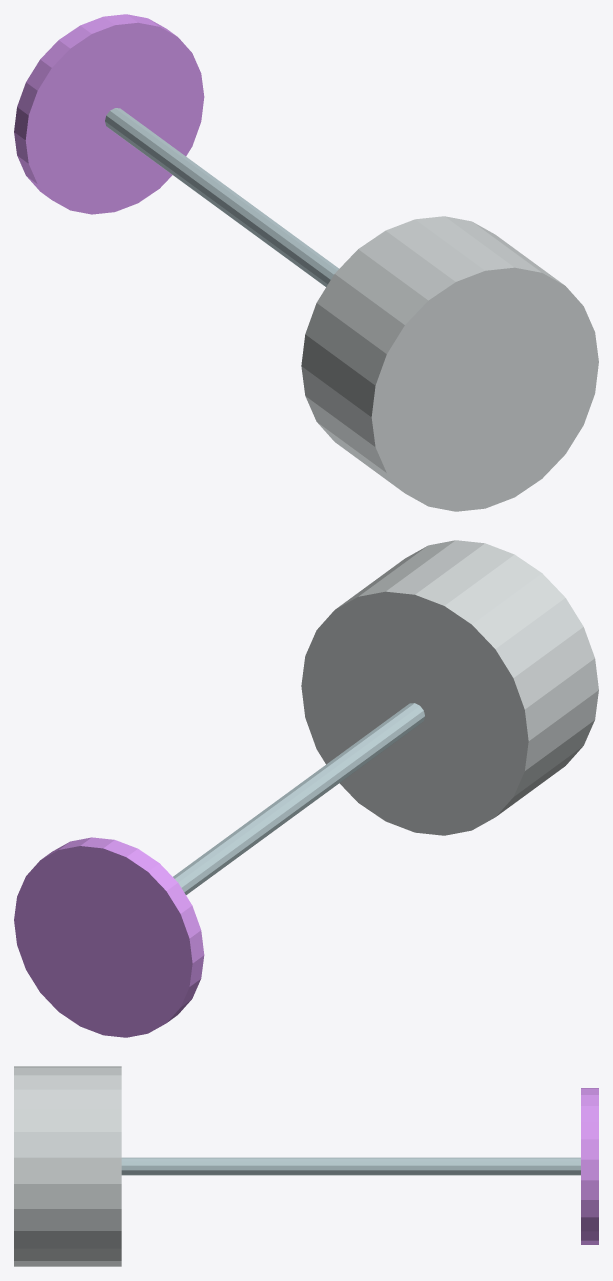
Rendered from floor-lamp.glb.
3 views of the same model, one above another, from view 1: azimuth 30°, elevation 25°; view 2: azimuth 150°, elevation 25°; view 3: azimuth 270°, elevation 25° (orthographic). The views are drawn at different scales.
Visible parts, largest first — view 1: world; view 2: world; view 3: world.
Part boxes in pixels (left/top/right/bottom): world: left=14, top=14, right=598, bottom=511; world: left=14, top=540, right=598, bottom=1037; world: left=14, top=1066, right=598, bottom=1266.
Bounding box in the file's own units: 0.56 × 0.56 × 1.63.
